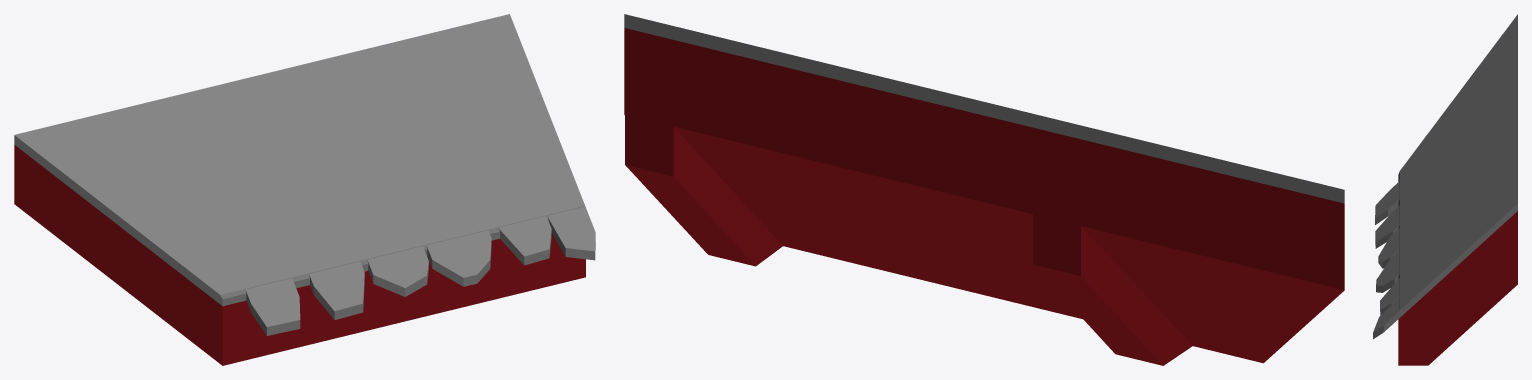
Rendered from SM_MH_01_Slate_Roof_End_Half_Slope_L_01.fbx.
3 views of the same model, side by side, from view 1: azimuth 30°, elevation 25°; view 2: azimuth 150°, elevation 25°; view 3: azimuth 270°, elevation 25° (orthographic). The views are drawn at different scales.
Visible parts, largest first — view 1: SM_MH_01_Slate_Roof_End_Half_Slope_L_01_LOD0; view 2: SM_MH_01_Slate_Roof_End_Half_Slope_L_01_LOD0; view 3: SM_MH_01_Slate_Roof_End_Half_Slope_L_01_LOD0.
Part boxes in pixels (x1,y1,x2,y2): SM_MH_01_Slate_Roof_End_Half_Slope_L_01_LOD0: (14, 14, 595, 365); SM_MH_01_Slate_Roof_End_Half_Slope_L_01_LOD0: (624, 14, 1344, 365); SM_MH_01_Slate_Roof_End_Half_Slope_L_01_LOD0: (1373, 14, 1517, 365).
Size of what is drawn, in the model's own units: 150 by 60 by 48.46.
